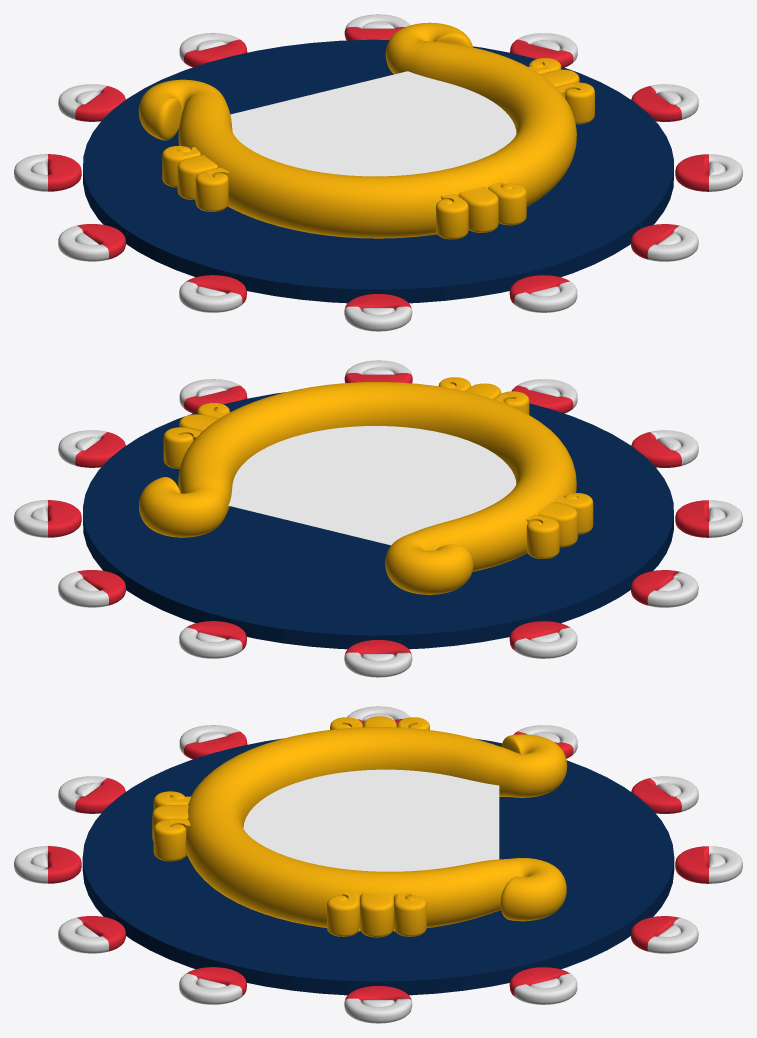
File: meztli_3d.gltf
3 views of the same model, one above another, from view 1: azimuth 30°, elevation 25°; view 2: azimuth 150°, elevation 25°; view 3: azimuth 270°, elevation 25° (orthographic).
Visible parts, largest first — view 1: Outer circle, 1/3 M edge, Star, Pulque, Boluta Complete.001; view 2: Outer circle, 1/3 M edge, Pulque, Star, Boluta Complete.001; view 3: Outer circle, 1/3 M edge, Star, Pulque, Boluta Complete.001.
Part boxes in pixels (x1,y1,x2,y2): Outer circle: (83, 39, 673, 303); 1/3 M edge: (138, 22, 576, 238); Star: (14, 14, 742, 331); Pulque: (230, 71, 516, 176); Boluta Complete.001: (162, 58, 594, 239); Outer circle: (83, 392, 673, 649); 1/3 M edge: (139, 382, 576, 594); Pulque: (228, 426, 516, 545); Star: (14, 360, 742, 677); Boluta Complete.001: (163, 377, 593, 558); Outer circle: (82, 738, 674, 995); 1/3 M edge: (185, 727, 567, 930); Star: (14, 706, 742, 1023); Pulque: (243, 769, 499, 871); Boluta Complete.001: (152, 716, 429, 937).
Bounding box in the file's own units: 10.75 × 1.13 × 10.75.
